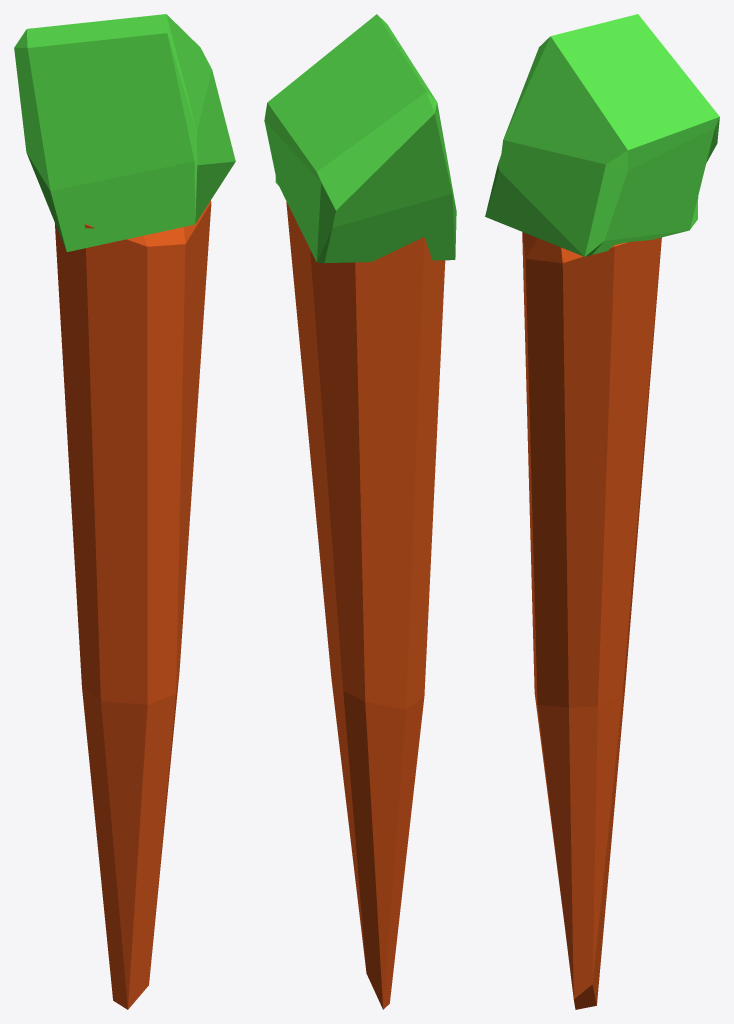
File: carrot.fbx
3 views of the same model, side by side, from view 1: azimuth 30°, elevation 25°; view 2: azimuth 150°, elevation 25°; view 3: azimuth 270°, elevation 25° (orthographic). The views are drawn at different scales.
Visible parts, largest first — view 1: Cube, Cube.001; view 2: Cube, Cube.001; view 3: Cube, Cube.001.
Part boxes in pixels (x1,y1,x2,y2): Cube: (55,200,211,1009); Cube.001: (14,14,235,251); Cube: (286,202,445,1009); Cube.001: (264,14,456,263); Cube: (522,232,661,1009); Cube.001: (485,14,719,256).
Bounding box in the file's own units: 275 × 1343 × 290.
